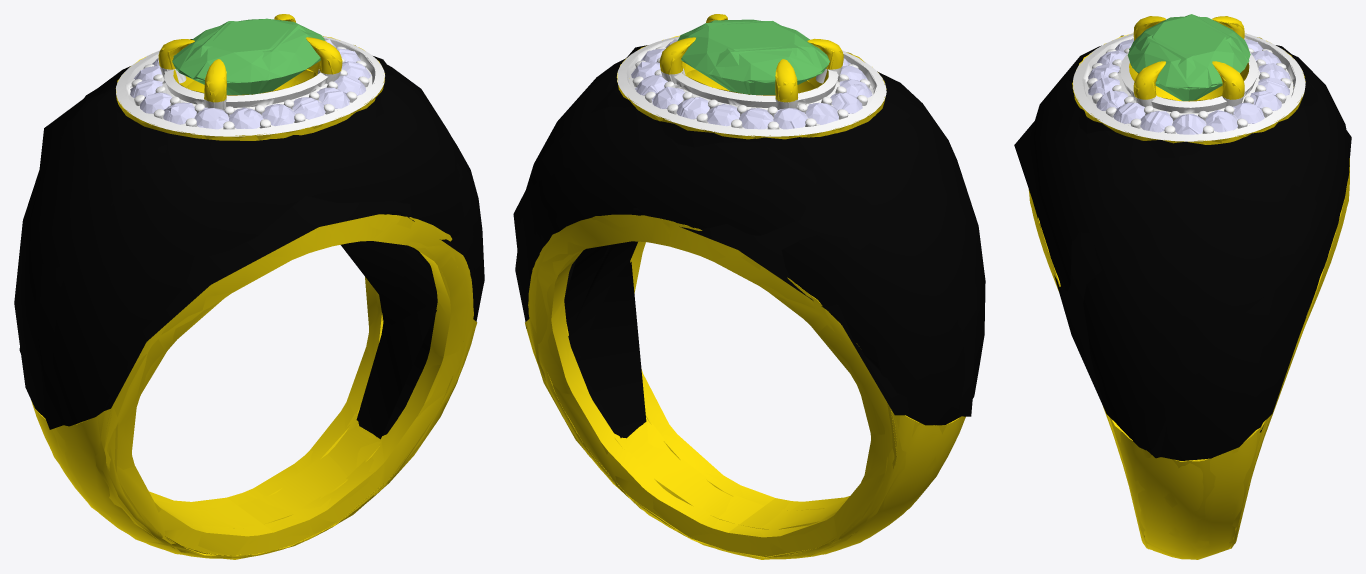
File: DLR-D000677903.glb
3 renders of one model, left to right at view 1: azimuth 30°, elevation 25°; view 2: azimuth 150°, elevation 25°; view 3: azimuth 270°, elevation 25°, orthographic. The views are drawn at different scales.
Parts seen in each view (by area): view 1: highPolyMesh, lowPolyMesh; view 2: highPolyMesh, lowPolyMesh; view 3: highPolyMesh, lowPolyMesh.
Boxes of the visible parts, x1,y1,x2,y2 form: highPolyMesh: (14, 14, 484, 558); lowPolyMesh: (19, 14, 477, 559); highPolyMesh: (515, 14, 985, 559); lowPolyMesh: (513, 14, 977, 559); highPolyMesh: (1028, 16, 1350, 559); lowPolyMesh: (1014, 14, 1351, 559).
Bounding box in the file's own units: 0.0247 × 0.0276 × 0.0168.
